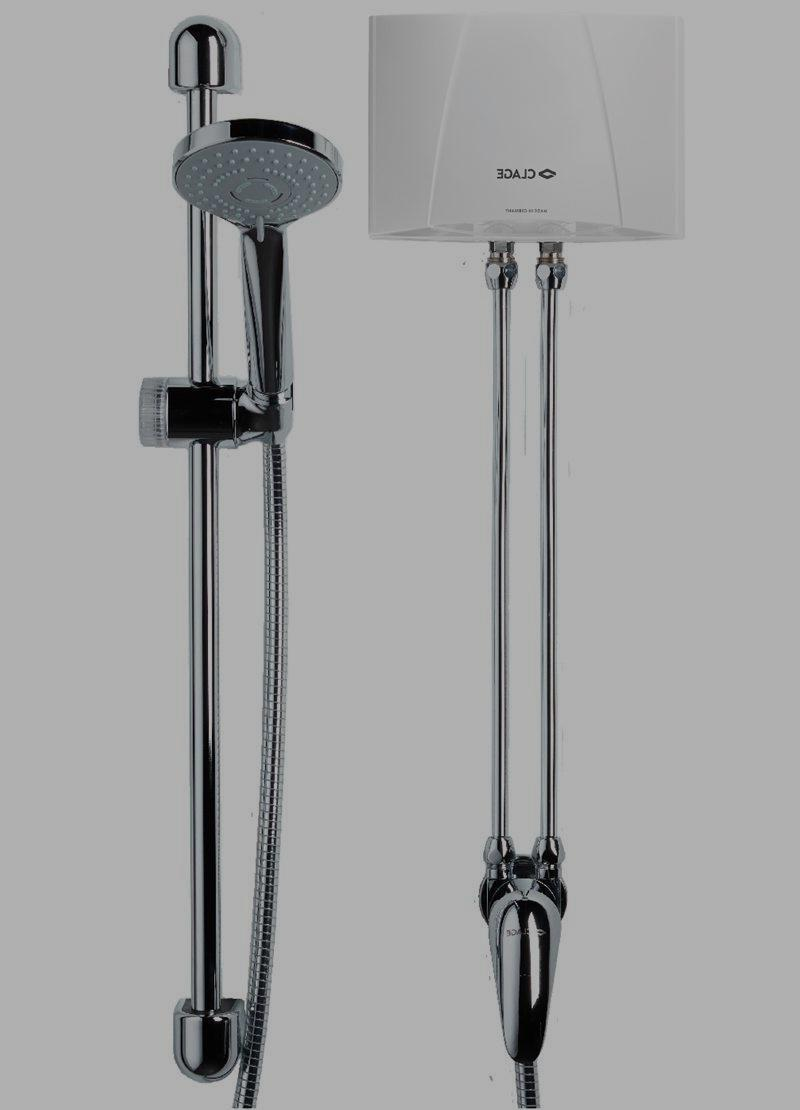Ducha: (147, 0, 707, 1109)
